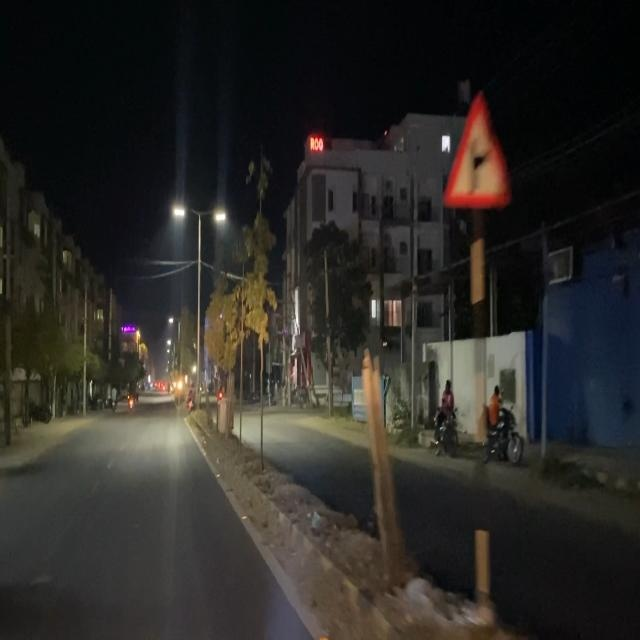bien_nguy_hiem: (441, 87, 513, 213)
